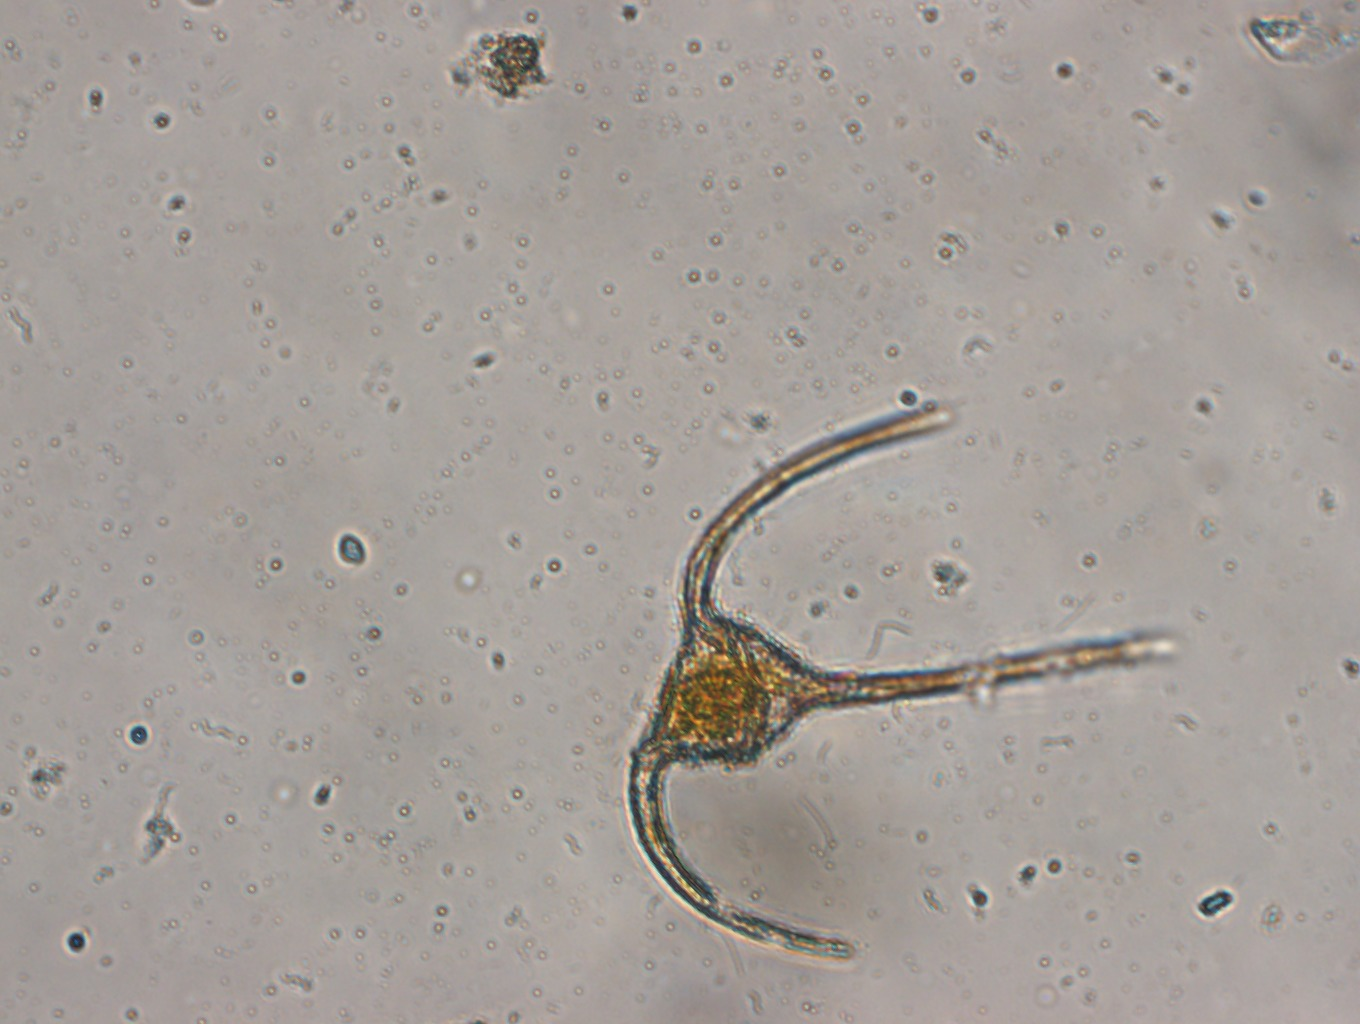ceratium trichoceros: (614, 393, 1183, 973)
